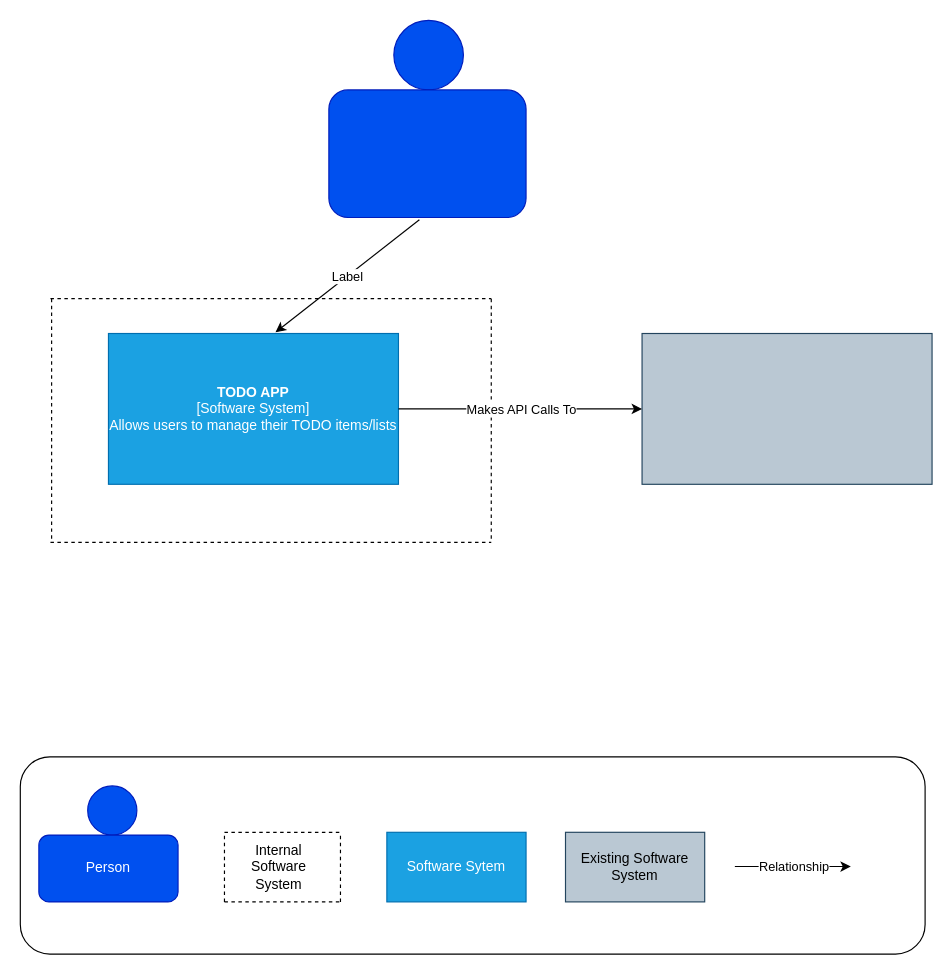
This 952x974 diagram has some shape labels left out. The shapes that lost their labels are listed below. From the top down, each one's centre as x and y in pixels, then its label:
(x=427, y=153): TODO App User [Person] Uses App to organise/manage TODO list
(x=786, y=408): Trello API [Software System] REST API System to store TODO lists
